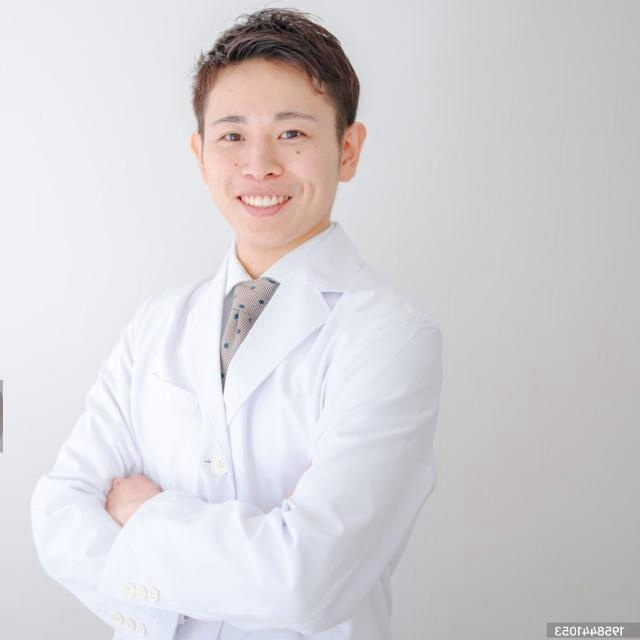Sin_Casco_Mascarrilla: (187, 8, 368, 240)
Sin_Chaleco: (116, 249, 431, 636)
